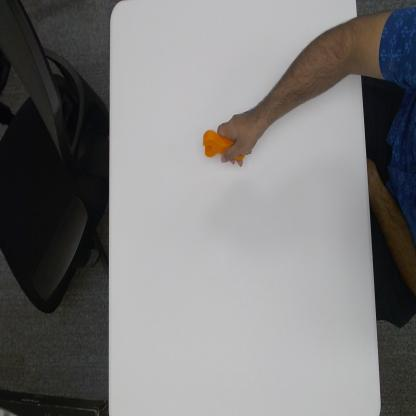Arm: (260, 13, 358, 132)
Hand: (218, 102, 260, 163)
Screwdriver: (202, 124, 246, 164)
